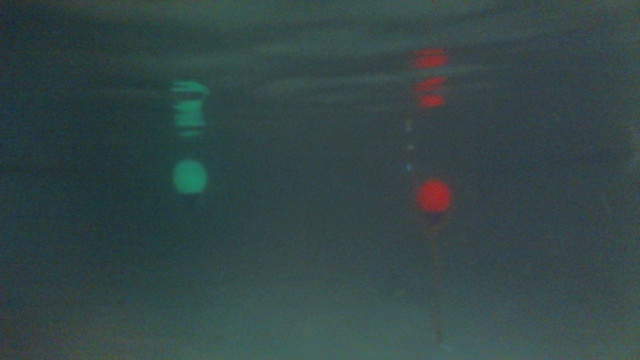buoy_green: (170, 155, 207, 209)
buoy_red: (415, 178, 451, 224)
